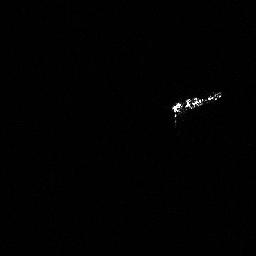ship: (168, 88, 224, 127)
